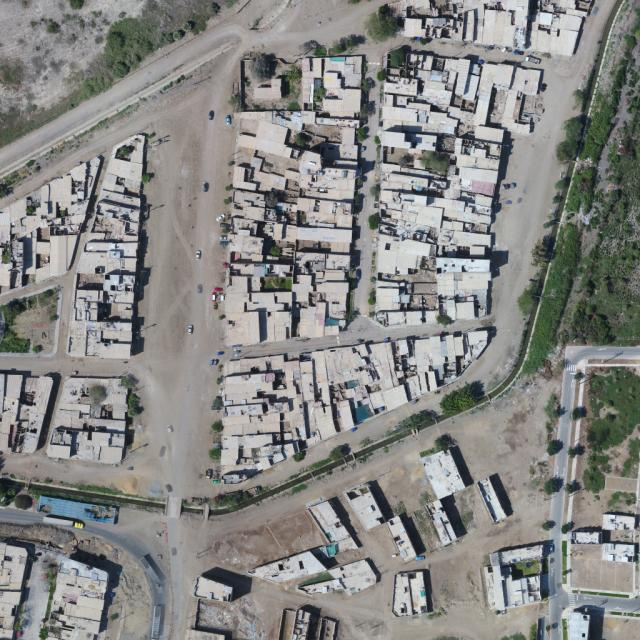building: (227, 49, 506, 347), (208, 328, 498, 477), (66, 130, 151, 362), (481, 543, 553, 613), (249, 547, 327, 593), (328, 552, 379, 600), (420, 447, 465, 500), (343, 481, 386, 534), (308, 497, 350, 547), (476, 472, 516, 524), (387, 569, 428, 617), (385, 515, 418, 564), (424, 499, 458, 546), (193, 575, 235, 602), (279, 607, 312, 640), (298, 577, 344, 598), (601, 542, 635, 562), (601, 512, 635, 531), (569, 612, 590, 639), (89, 384, 106, 417), (571, 531, 601, 544)
dryland: (20, 377, 624, 640), (219, 506, 328, 575)
greenland: (521, 221, 589, 380), (521, 221, 588, 379), (88, 7, 163, 81), (45, 58, 118, 124), (568, 544, 640, 597), (155, 0, 219, 44), (580, 96, 620, 164), (436, 377, 490, 421), (565, 163, 598, 215), (527, 231, 557, 269), (577, 133, 606, 164), (516, 285, 538, 317), (563, 117, 586, 144), (25, 103, 46, 114)
metalled_road: (507, 316, 640, 482), (79, 506, 184, 609), (544, 488, 567, 576)
unmetalled_road: (443, 0, 613, 391), (0, 10, 250, 185), (0, 11, 249, 185), (503, 0, 612, 222), (166, 518, 210, 640)
